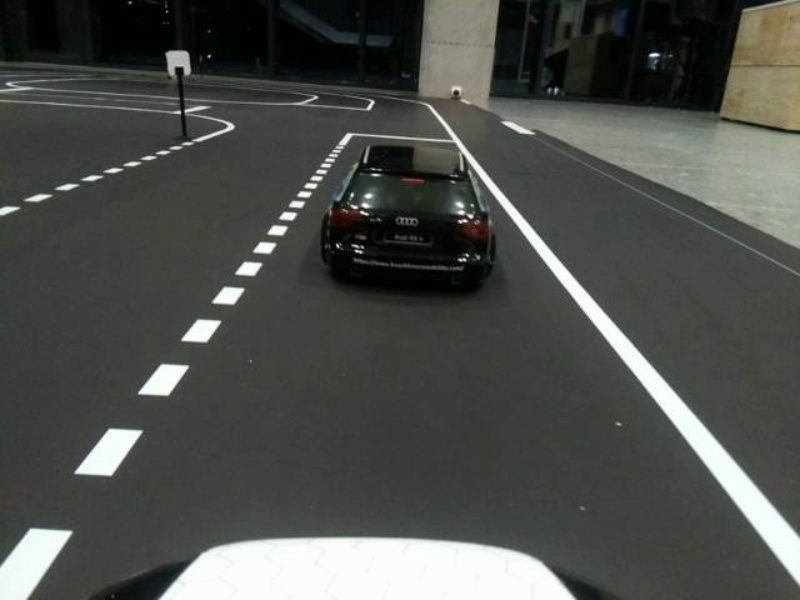car: (300, 132, 519, 300)
